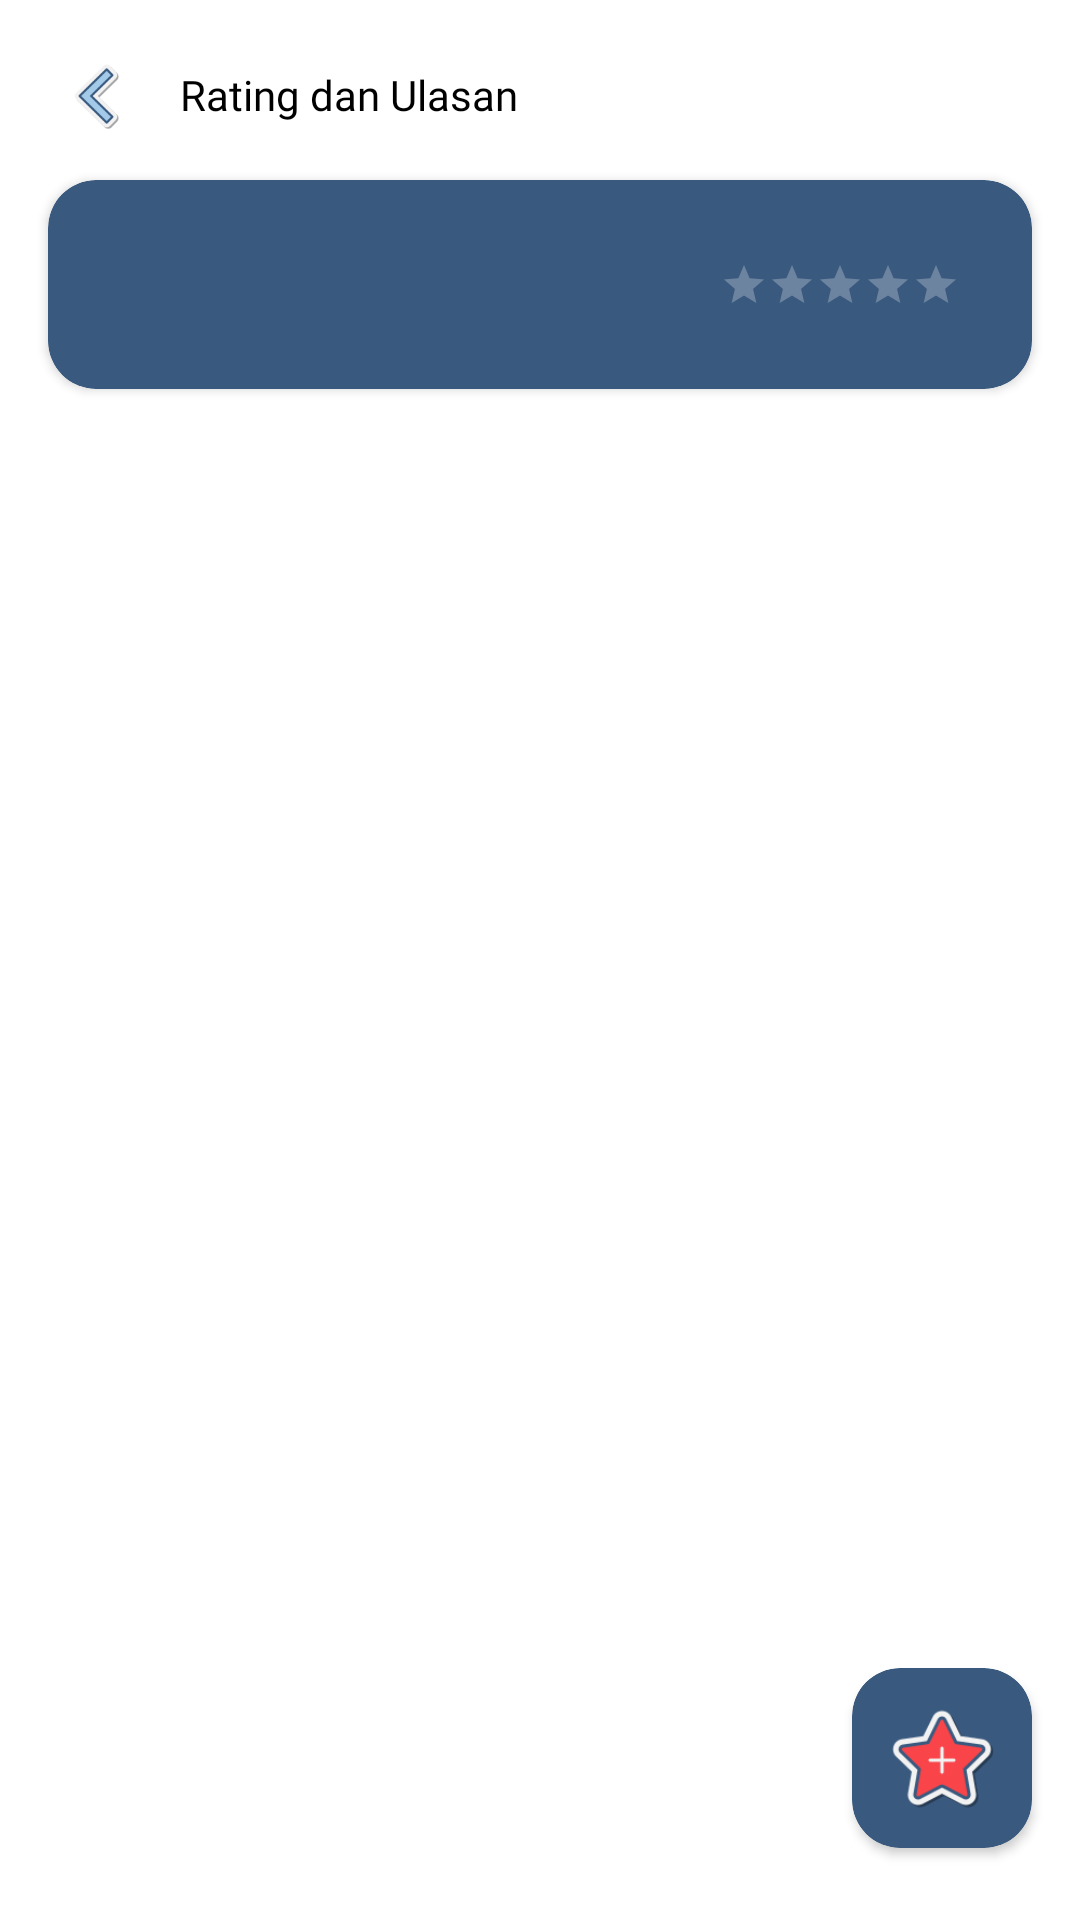

Point at icon controls on the screen. Image size 1080×1920, points as [x,y].
add fav: [942,1758]
back: [98,98]
